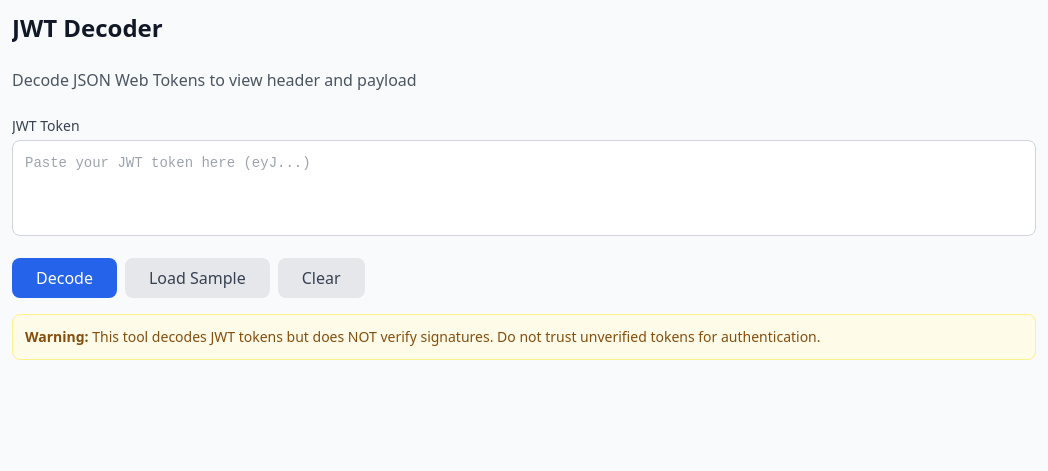
Test: JwtDecoder › shows error for invalid JWT
Type "invalid" into the text box with placeholder "Paste your JWT token here (eyJ...)".
click(524, 188); type("invalid")  # box x1=12 y1=140 x2=1036 y2=236
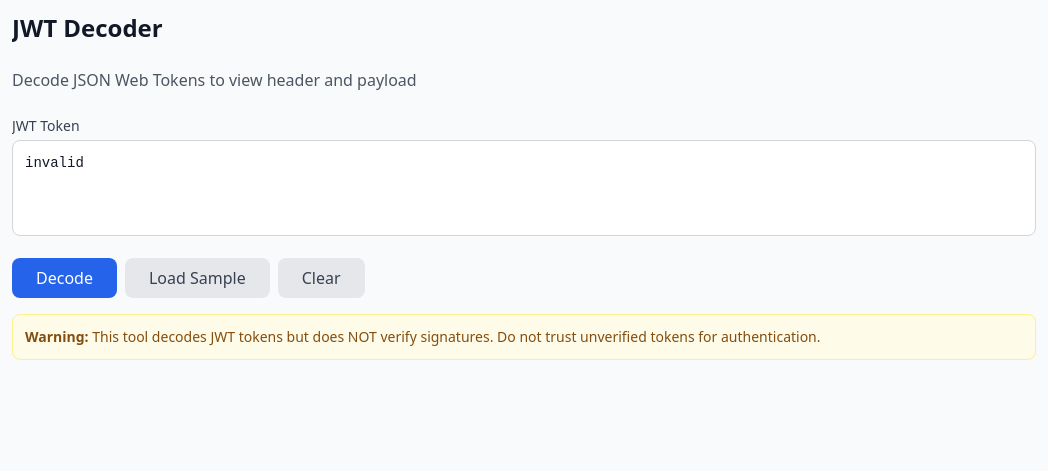
Click the button "Decode".
click(64, 278)  # box x1=12 y1=258 x2=117 y2=298
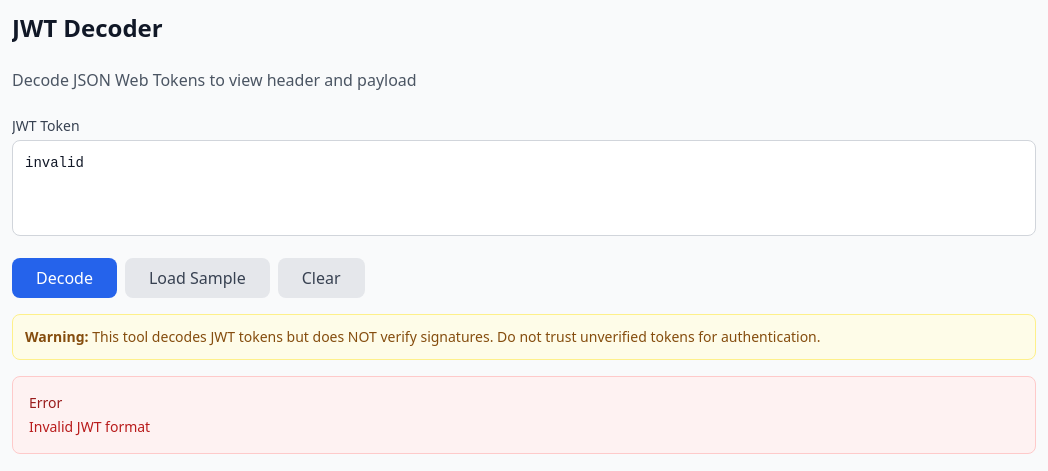
Now the text "Invalid JWT format" is shown, box x1=29 y1=417 x2=150 y2=436
